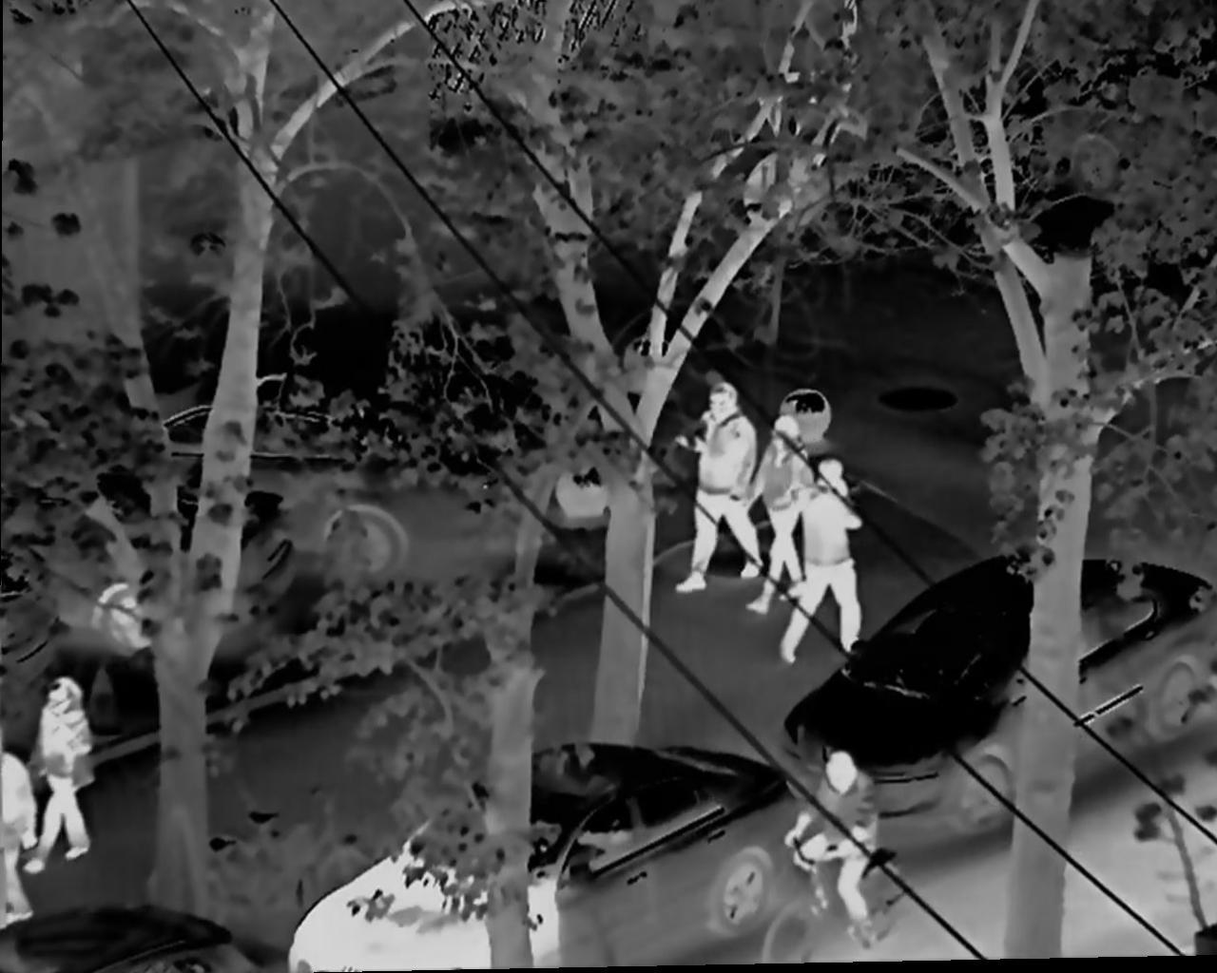person: (784, 726, 892, 958), (667, 377, 766, 595), (784, 446, 869, 662), (28, 671, 96, 868), (750, 415, 812, 613)
